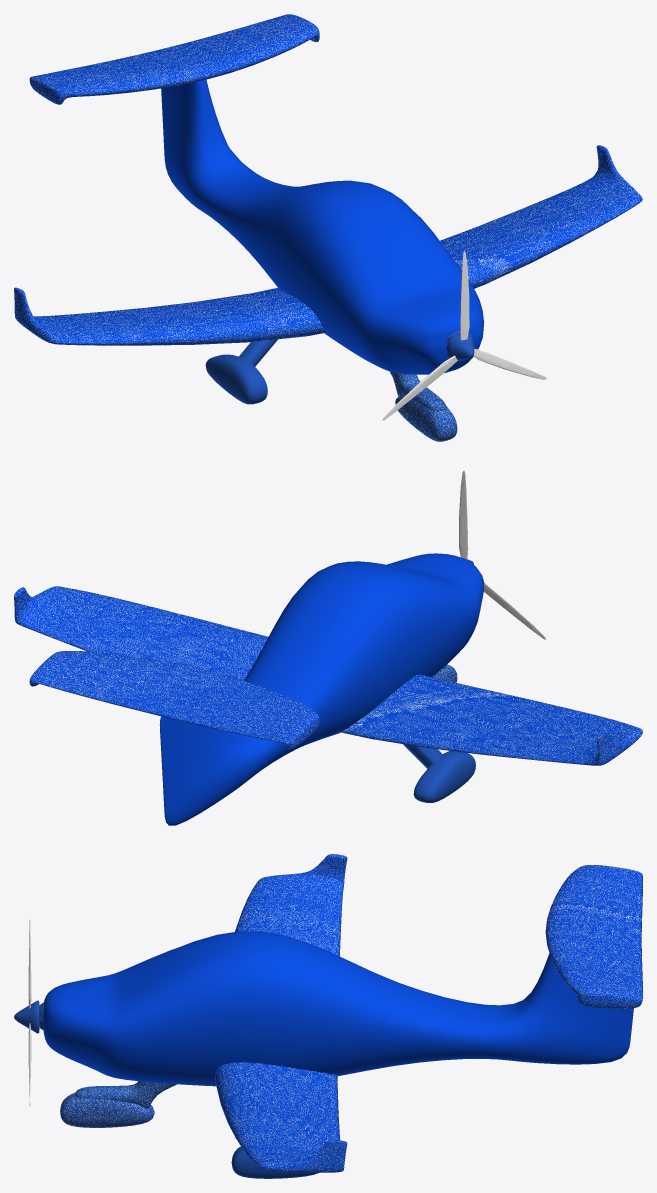
File: airplane_test1204c.fbx
3 renders of one model, top to bottom at view 1: azimuth 30°, elevation 25°; view 2: azimuth 150°, elevation 25°; view 3: azimuth 270°, elevation 25°, orthographic.
Visible parts, largest first — view 1: body, body.001, sideleg, frontleg, propeller.001, head, frontleg.001; view 2: body, body.001, sideleg, propeller.001; view 3: body, body.001, frontleg, frontleg.001, sideleg, head, propeller.001.
Boxes of the visible parts, bbox=[...] form: body: bbox=[14, 14, 642, 374]; body.001: bbox=[14, 14, 642, 345]; sideleg: bbox=[205, 339, 277, 404]; frontleg: bbox=[389, 371, 457, 441]; propeller.001: bbox=[382, 251, 546, 420]; head: bbox=[446, 330, 474, 361]; frontleg.001: bbox=[390, 372, 456, 440]; body: bbox=[14, 553, 642, 825]; body.001: bbox=[14, 587, 642, 765]; sideleg: bbox=[403, 744, 475, 802]; propeller.001: bbox=[459, 470, 545, 639]; body: bbox=[43, 854, 642, 1172]; body.001: bbox=[215, 854, 642, 1172]; frontleg: bbox=[60, 1081, 176, 1127]; frontleg.001: bbox=[61, 1081, 173, 1127]; sideleg: bbox=[231, 1146, 319, 1178]; head: bbox=[14, 1000, 44, 1033]; propeller.001: bbox=[28, 919, 31, 1105].
Bounding box in the file's own units: 459 × 153 × 420.
